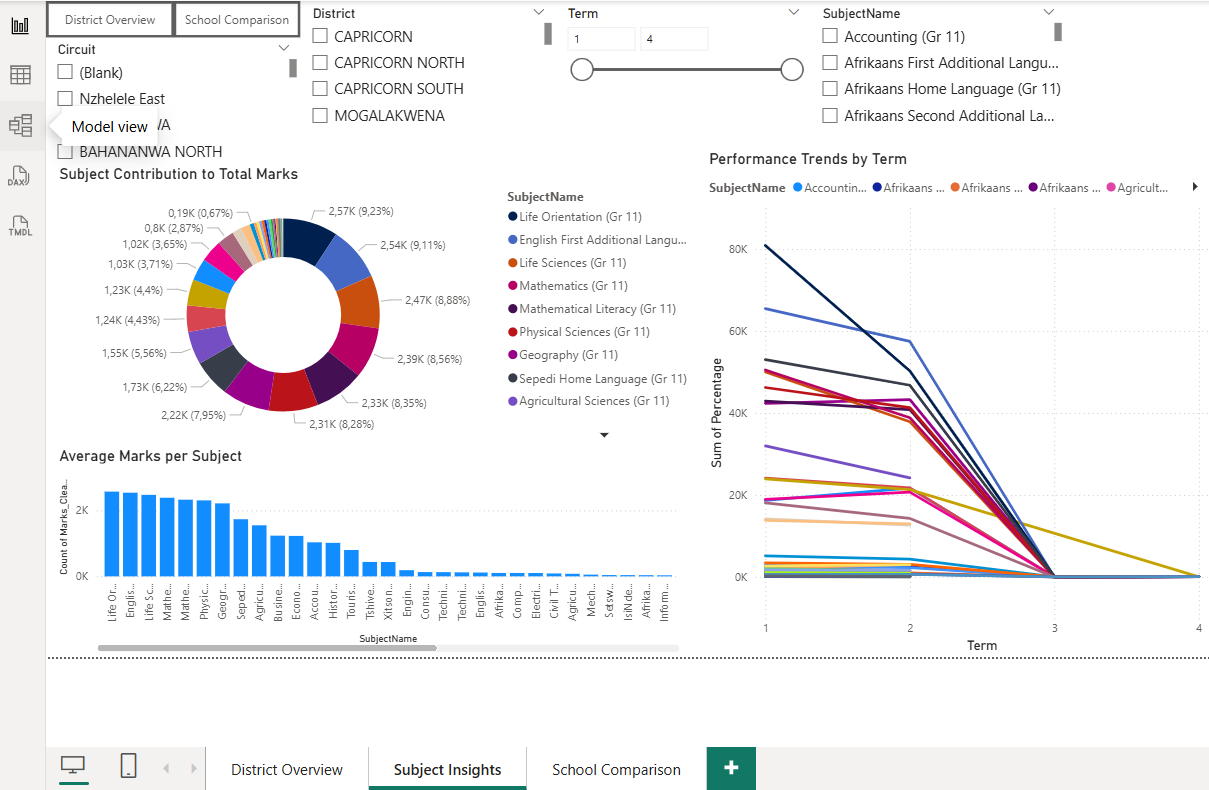

The dashboard page shown, as its layout file describes it:
{"tool":"powerbi","page":{"name":"Subject Insights","canvas":[1280,720],"ordinal":1},"visuals":[{"type":"clusteredColumnChart","title":"Average Marks per Subject","fields":{"Category":["Sheet2.Name"],"Y":["CountNonNull(Sheet2.Marks_Cleaned)"]},"box":[9.8,489.1,690.9,231.1],"z":0},{"type":"lineChart","title":"Performance Trends by Term","fields":{"Y":["Sum(Sheet2.Percentage)"],"Category":["Sheet2.Term"],"Series":["Sheet2.Name"]},"box":[722.7,162.6,557.6,557.6],"z":1000},{"type":"donutChart","title":"Subject Contribution to Total Marks","fields":{"Category":["Sheet2.SubjectName"],"Y":["CountNonNull(Sheet2.Marks_Cleaned)"]},"box":[9.8,179.8,712.9,309.4],"z":2000},{"type":"slicer","fields":{"Values":["Sheet2.Name"]},"box":[840.1,0,280,150.4],"z":3000},{"type":"slicer","fields":{"Values":["Sheet2.Circuit"]},"box":[0,40.4,280,139.4],"z":4000},{"type":"slicer","fields":{"Values":["Sheet2.District"]},"box":[280,0,280,150.4],"z":5000},{"type":"slicer","fields":{"Values":["Sheet2.Term"]},"box":[560.1,0,280,150.4],"z":6000},{"type":"actionButton","box":[0,0,140.6,40.4],"z":7000},{"type":"actionButton","box":[140.6,0,139.4,40.4],"z":8000}]}

Visuals, with their boxes on the page's 1280x720 design canvas (x1, y1, x2, y2). These are canvas units, not pixel positions in the 1209x790 screenshot, which may show the page scaled, cropped or inside an application window:
"Average Marks per Subject" clusteredColumnChart: l=10, t=489, r=701, b=720
"Performance Trends by Term" lineChart: l=723, t=163, r=1280, b=720
"Subject Contribution to Total Marks" donutChart: l=10, t=180, r=723, b=489
slicer - Sheet2.Name: l=840, t=0, r=1120, b=150
slicer - Sheet2.Circuit: l=0, t=40, r=280, b=180
slicer - Sheet2.District: l=280, t=0, r=560, b=150
slicer - Sheet2.Term: l=560, t=0, r=840, b=150
actionButton: l=0, t=0, r=141, b=40
actionButton: l=141, t=0, r=280, b=40
